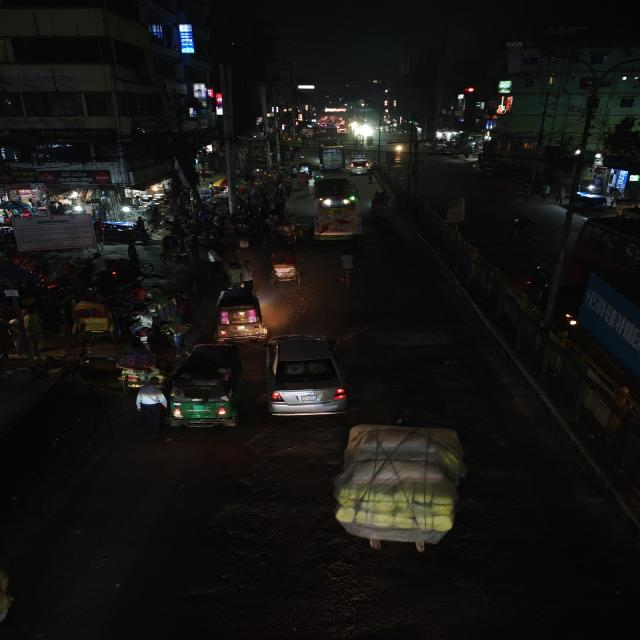bus: (308, 174, 364, 245), (317, 142, 345, 172)
car: (261, 331, 349, 421), (348, 159, 372, 177)
cng: (164, 343, 246, 433), (211, 286, 267, 341), (471, 158, 498, 178)
motorcycle: (127, 283, 163, 321), (509, 182, 534, 204)
pedestrian: (16, 308, 47, 356), (333, 250, 362, 289), (224, 260, 250, 288), (235, 259, 256, 288)
pickup_van: (327, 420, 482, 558)
rickshaw: (70, 300, 122, 344), (113, 344, 159, 392), (264, 245, 307, 289), (506, 214, 541, 248), (270, 216, 305, 244), (158, 233, 189, 264), (370, 192, 394, 220)
